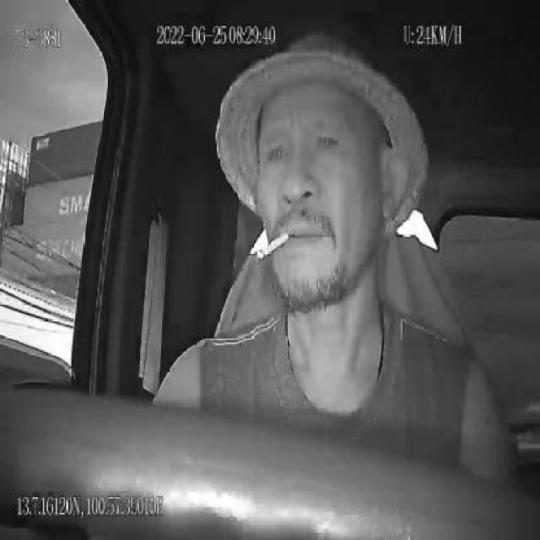smoking: (254, 229, 290, 262)
